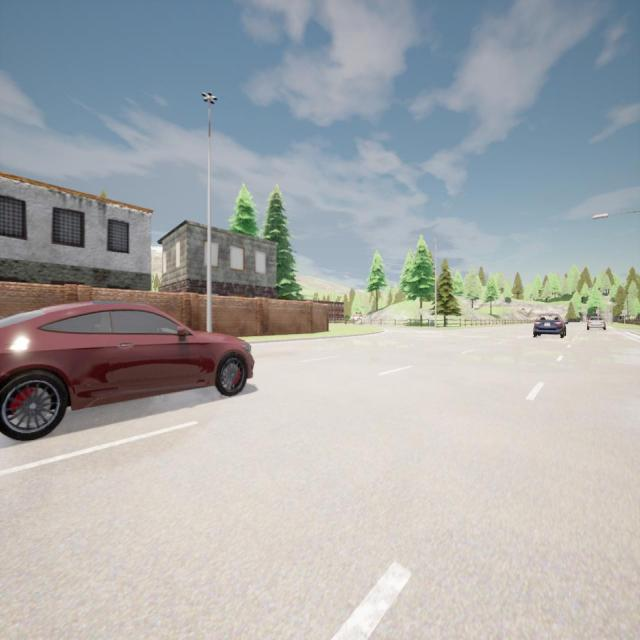Vehicle: (1, 303, 254, 441), (532, 313, 568, 338), (587, 315, 606, 331)
